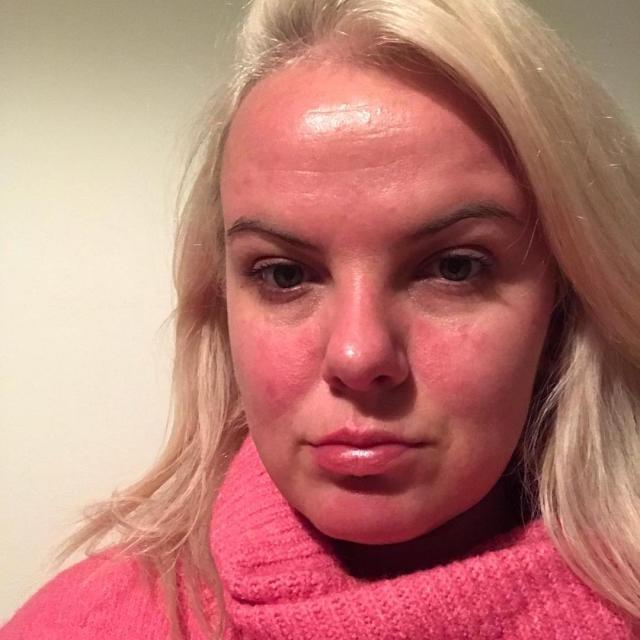Rosacea: (220, 72, 493, 227), (409, 314, 524, 459), (230, 310, 326, 453), (318, 266, 401, 386), (307, 489, 419, 545)
